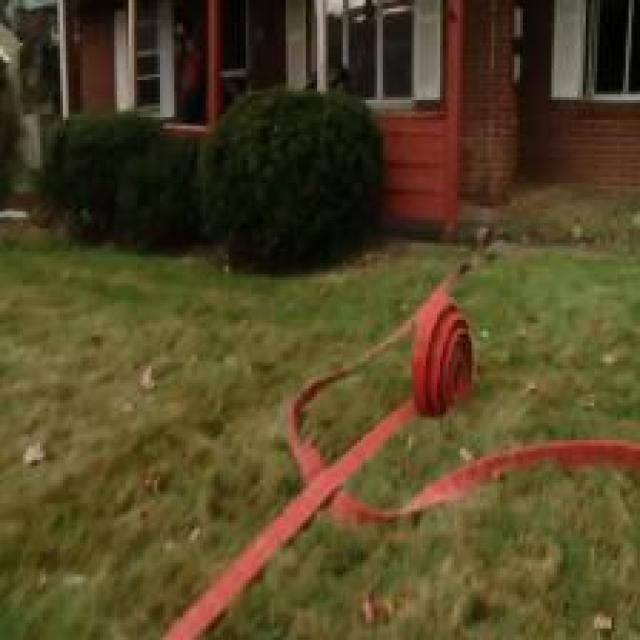other: (394, 290, 484, 416), (398, 119, 460, 240)
